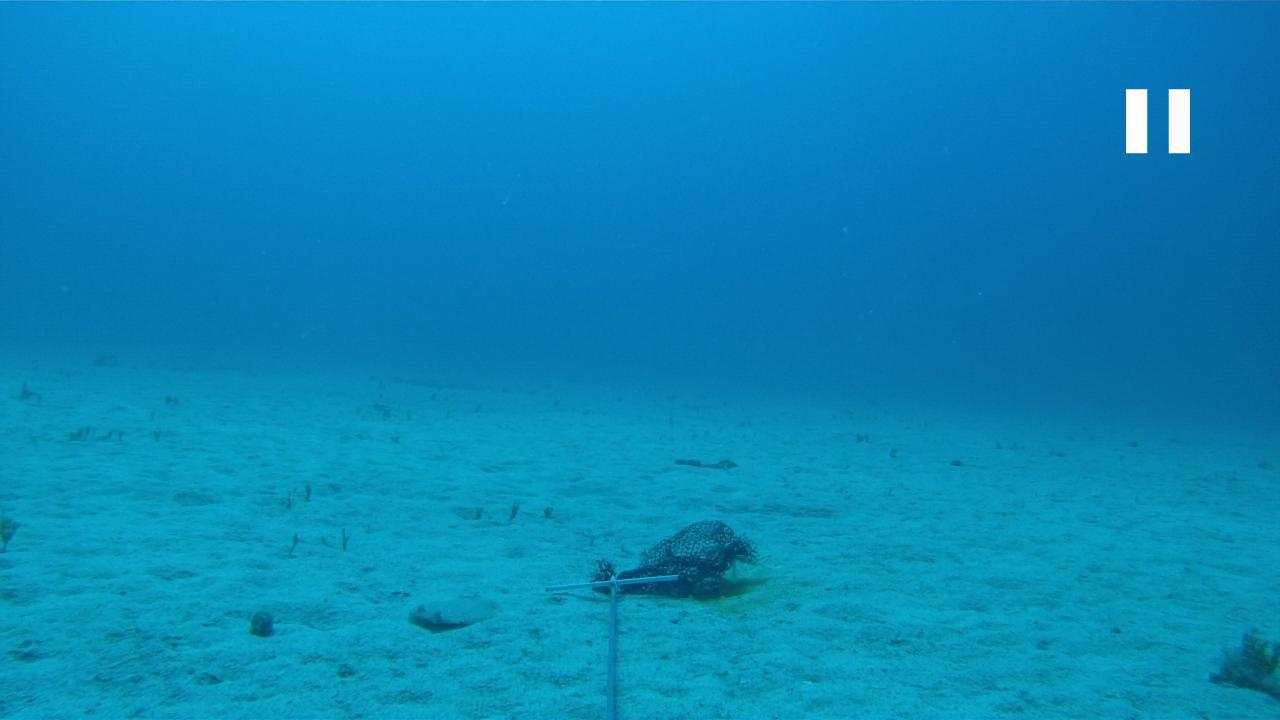bothus: (407, 589, 504, 634)
